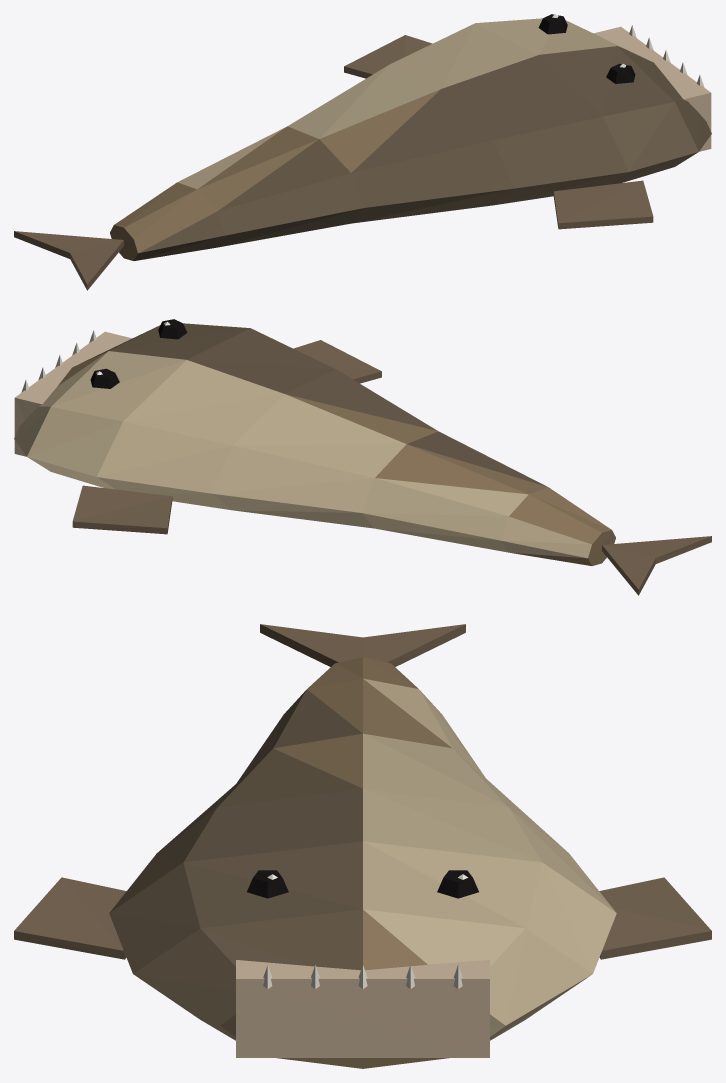
File: raw-monkfish.obj
The picture shows the model from 3 angles, top to bottom: view 1: azimuth 30°, elevation 25°; view 2: azimuth 150°, elevation 25°; view 3: azimuth 270°, elevation 25°; orthographic projection. The views are drawn at different scales.
Visible parts, largest first — view 1: main; view 2: main; view 3: main.
Boxes of the visible parts, x1,y1,x2,y2 form: main: (14, 14, 711, 290); main: (14, 319, 711, 595); main: (14, 624, 711, 1068).
Size of the model in its own units: 127 by 20.4 by 88.
